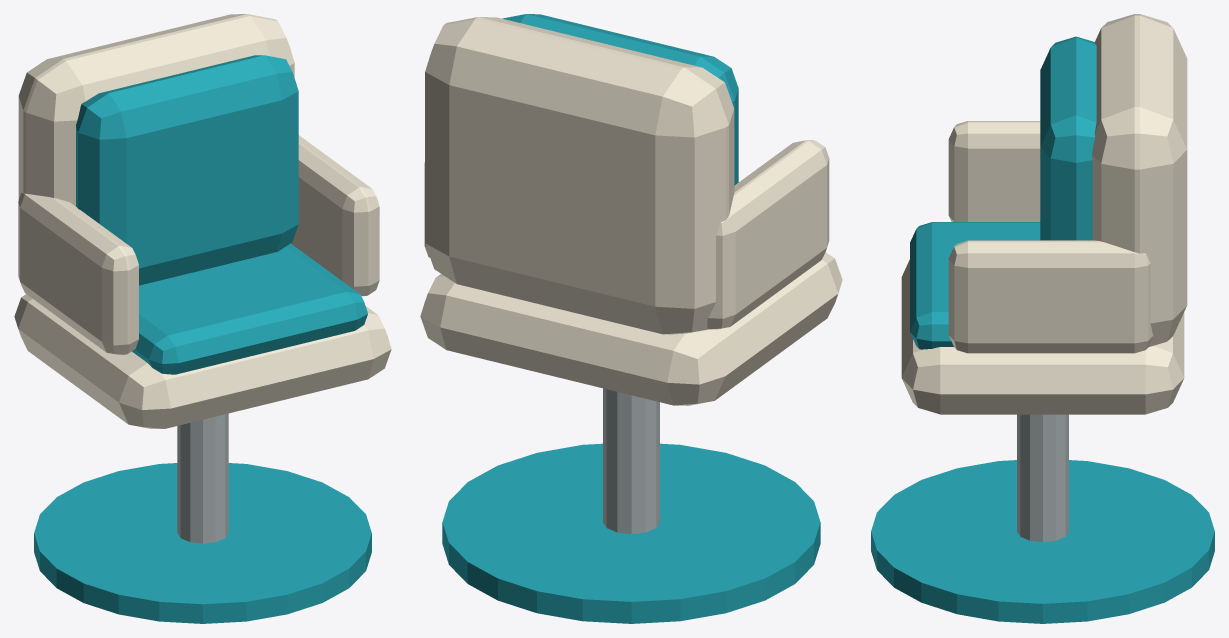
The model's file is visitor_chair_advanced.glb.
3 views of the same model, side by side, from view 1: azimuth 30°, elevation 25°; view 2: azimuth 150°, elevation 25°; view 3: azimuth 270°, elevation 25° (orthographic). The views are drawn at different scales.
Parts seen in each view (by area): view 1: STATIC_teal.028, STATIC_cream.025, STATIC_metal.026; view 2: STATIC_cream.025, STATIC_teal.028, STATIC_metal.026; view 3: STATIC_cream.025, STATIC_teal.028, STATIC_metal.026.
Boxes of the visible parts, x1,y1,x2,y2 form: STATIC_teal.028: [34, 55, 371, 623]; STATIC_cream.025: [14, 14, 391, 428]; STATIC_metal.026: [177, 413, 228, 543]; STATIC_cream.025: [420, 17, 842, 405]; STATIC_teal.028: [442, 14, 820, 623]; STATIC_metal.026: [603, 388, 659, 533]; STATIC_cream.025: [901, 14, 1187, 414]; STATIC_teal.028: [871, 36, 1214, 623]; STATIC_metal.026: [1017, 414, 1068, 542].
Size of the model in its own units: 0.62 by 0.975 by 0.62.
